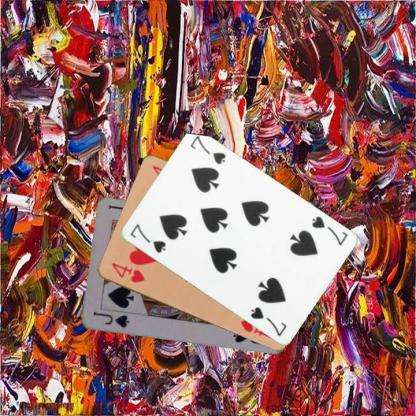4h: (109, 260, 146, 284)
7s: (308, 213, 349, 247), (127, 221, 167, 254)
Js: (90, 309, 131, 329)
